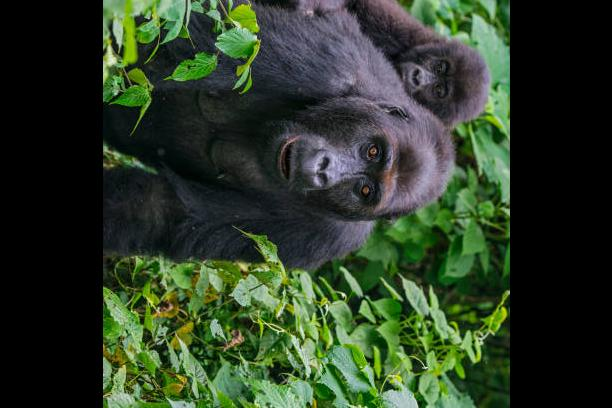goriile_montagne: (102, 0, 497, 314), (396, 0, 504, 151)
